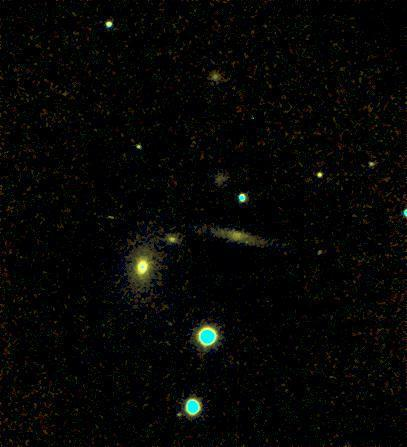star: (233, 227, 263, 257)
